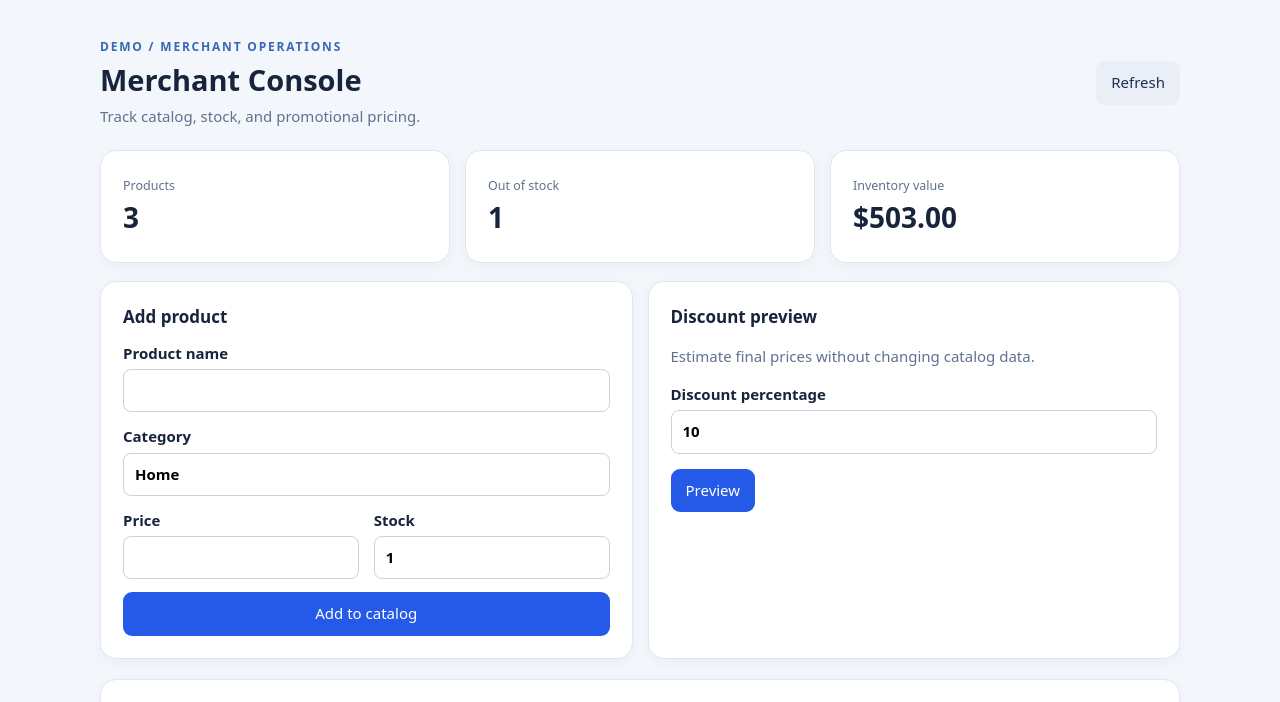
Test case: Merchant Console App Component › triggers discount preview calculation and displays updated pricing
This screenshot has width=1280, height=702.
Replace the text in the number field labelled "Discount percentage" with "15" at (914, 432), box [670, 410, 1157, 454]
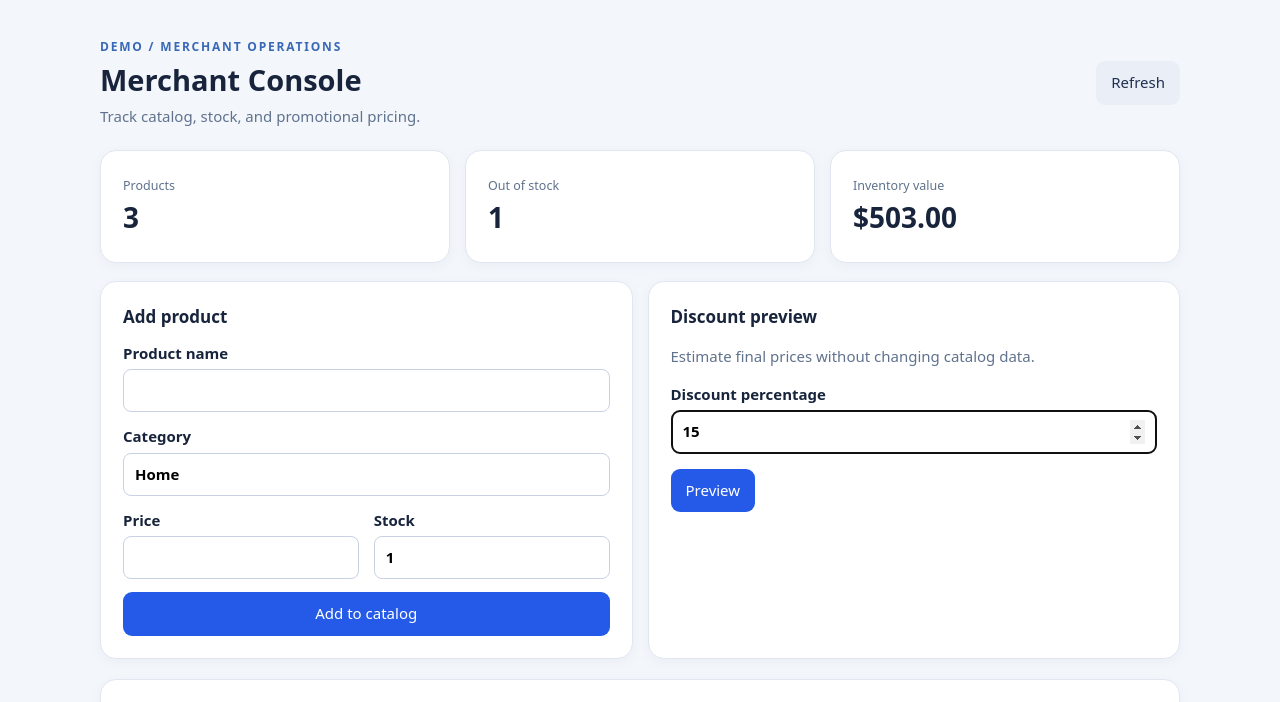
Click the button "Preview" at (713, 490), box [670, 469, 755, 512]
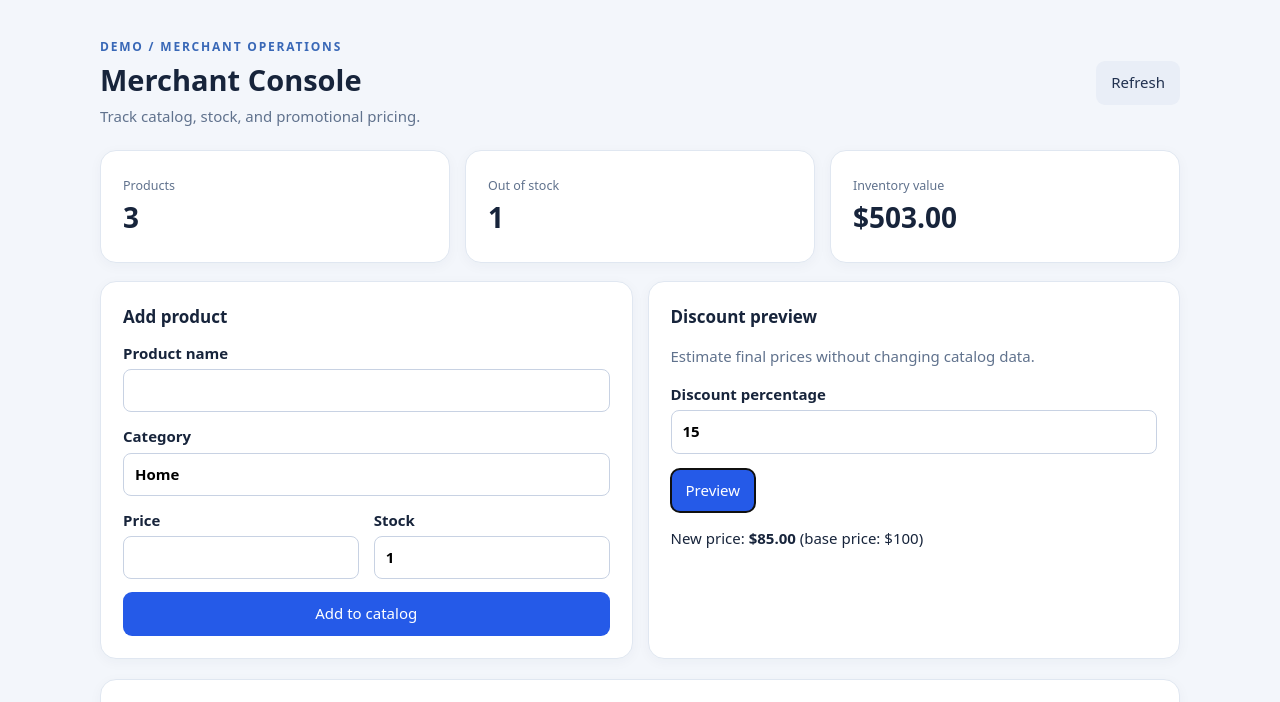
expect the message shows "New price: $85.00": met, box [670, 528, 923, 548]
